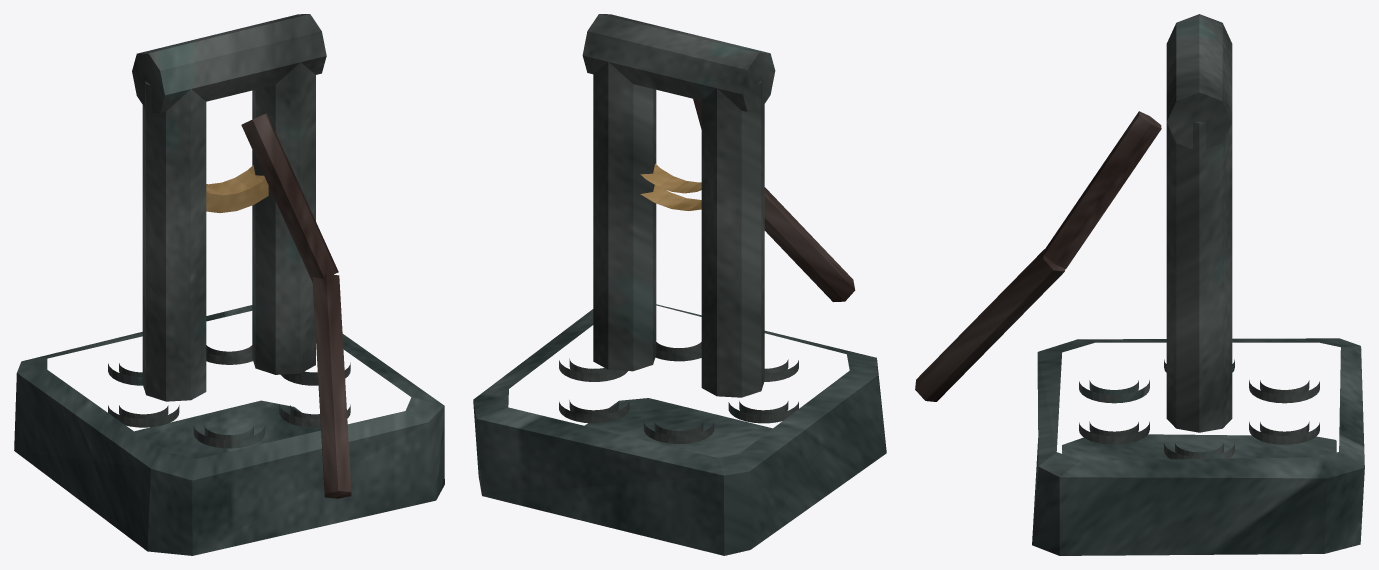
Rendered from 0690_rope_anchor_15.glb.
3 renders of one model, left to right at view 1: azimuth 30°, elevation 25°; view 2: azimuth 150°, elevation 25°; view 3: azimuth 270°, elevation 25°, orthographic.
Visible parts, largest first — view 1: iron, stone_dark, wood_dark, brass; view 2: iron, stone_dark, wood_dark, brass; view 3: stone_dark, iron, wood_dark.
Part boxes in pixels (x1,y1,x2,y2): iron: (108, 14, 350, 448); stone_dark: (14, 305, 444, 555); wood_dark: (241, 113, 351, 498); brass: (206, 165, 268, 212); iron: (559, 14, 798, 443); stone_dark: (473, 304, 886, 555); wood_dark: (693, 98, 855, 301); brass: (640, 163, 701, 210); stone_dark: (1032, 338, 1364, 555); iron: (1079, 14, 1319, 459); wood_dark: (915, 111, 1161, 401).
Size of the model in its own units: 1.22 by 1.78 by 1.65.
Materials: 4 (4 with a texture image).
